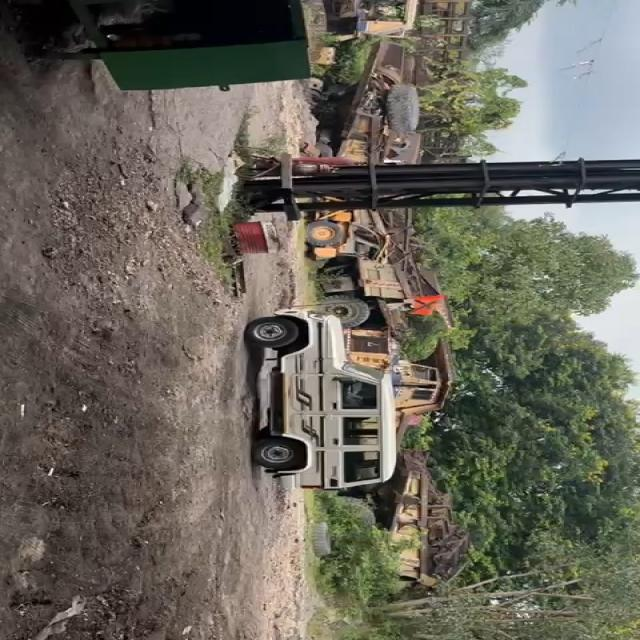light_vehicle: (252, 302, 404, 500)
